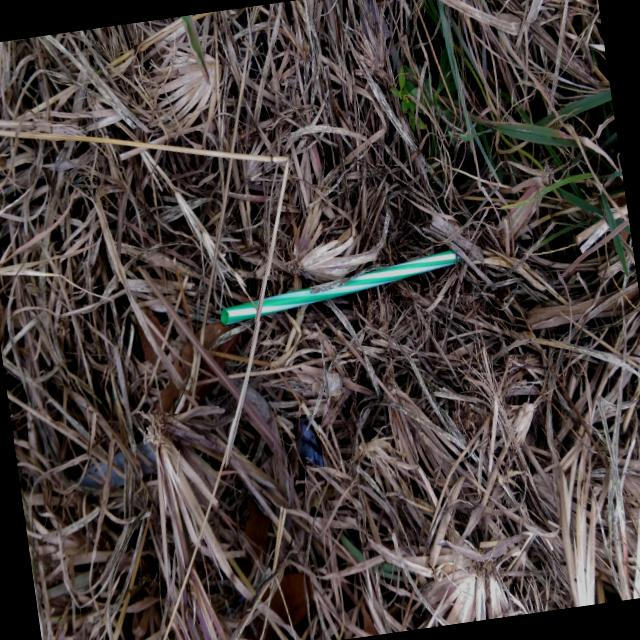Plastic film: (297, 416, 324, 467), (327, 374, 340, 396)
Straw: (222, 251, 463, 326)
